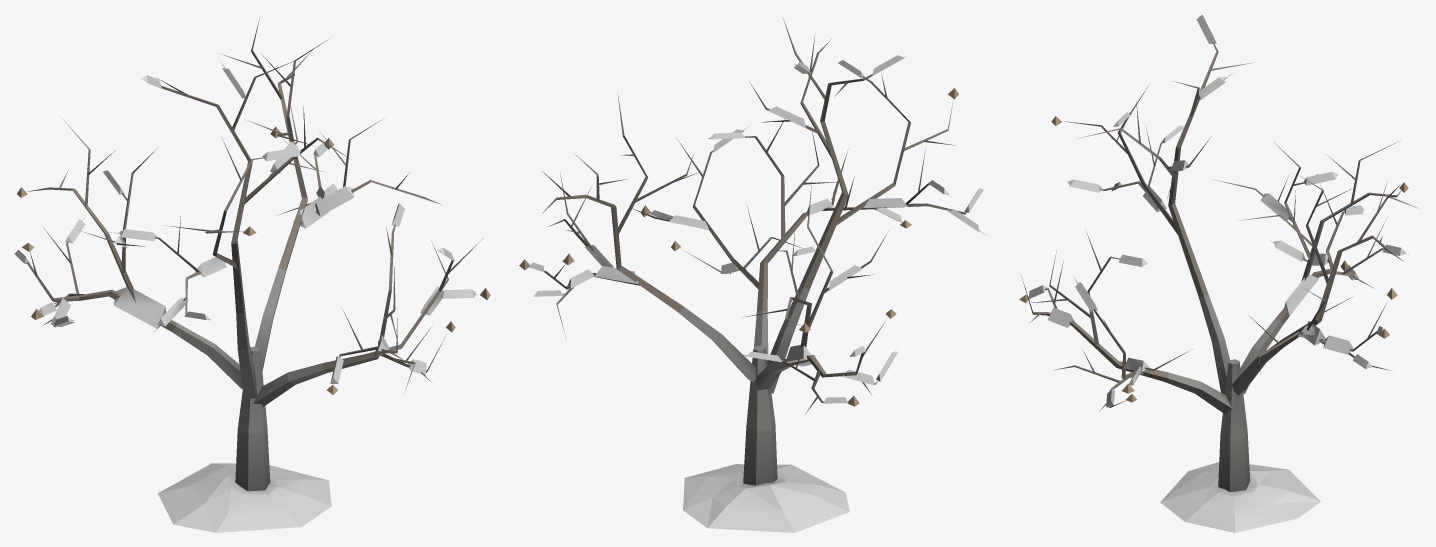
Rendered from rowan.glb.
3 renders of one model, left to right at view 1: azimuth 30°, elevation 25°; view 2: azimuth 150°, elevation 25°; view 3: azimuth 270°, elevation 25°, orthographic. The views are drawn at different scales.
Parts seen in each view (by area): view 1: rowan; view 2: rowan; view 3: rowan.
Part boxes in pixels (<box>): rowan: <box>14,16,490,532</box>; rowan: <box>519,17,986,532</box>; rowan: <box>1019,15,1418,532</box>.
Size of the model in its own units: 4.37 by 5.04 by 4.3.
